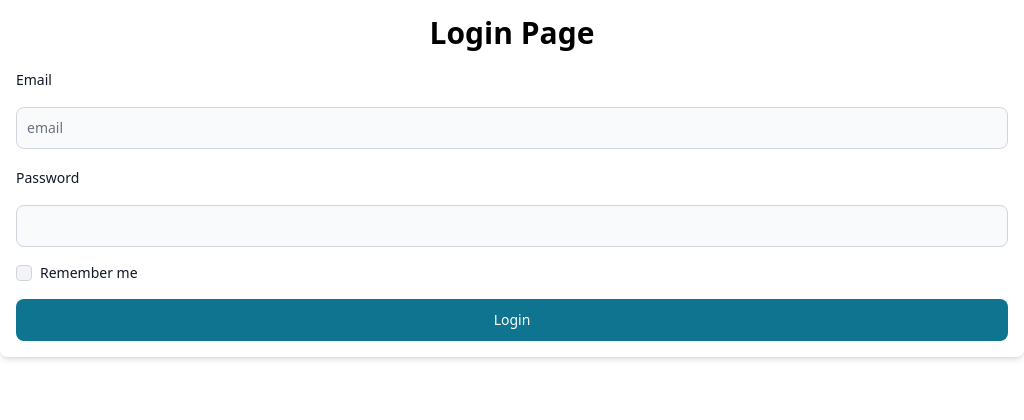
Login form submit › should display a loader when the form is submitted
Type "dave@gmail.com" into the field with placeholder "Email" at (512, 128), box [16,107,1008,149]
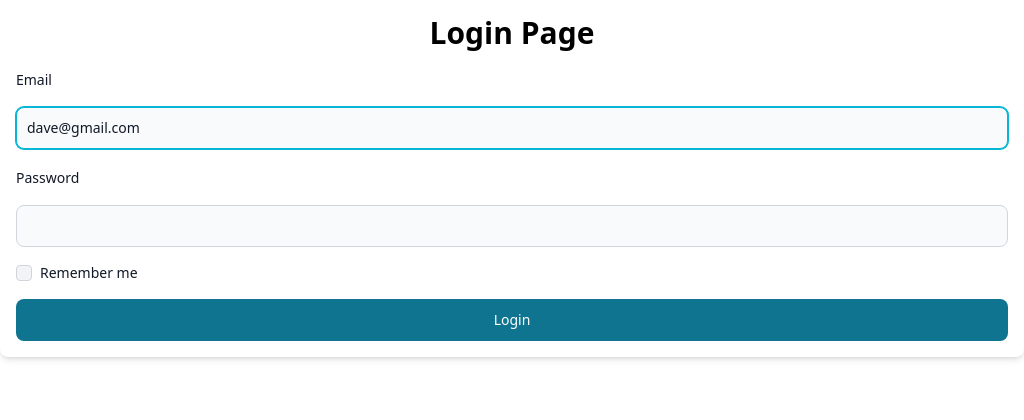
Type "Davejs$21" into the password field labelled "Password" at (512, 226), box [16,205,1008,247]
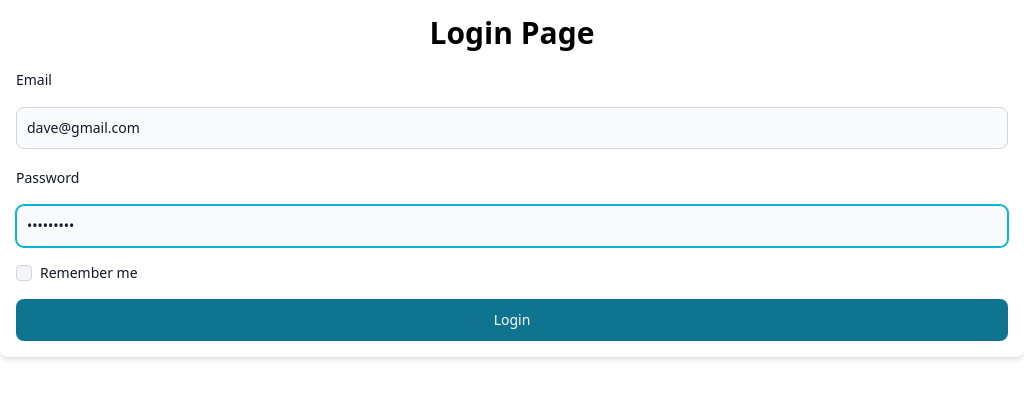
Click the button "Login" at (512, 320), box [16,299,1008,341]
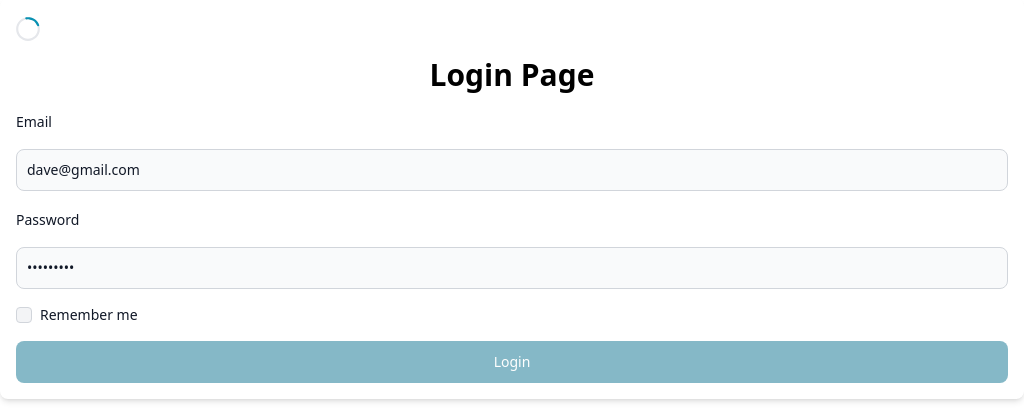
Now the message is shown, box [16,17,40,41]
